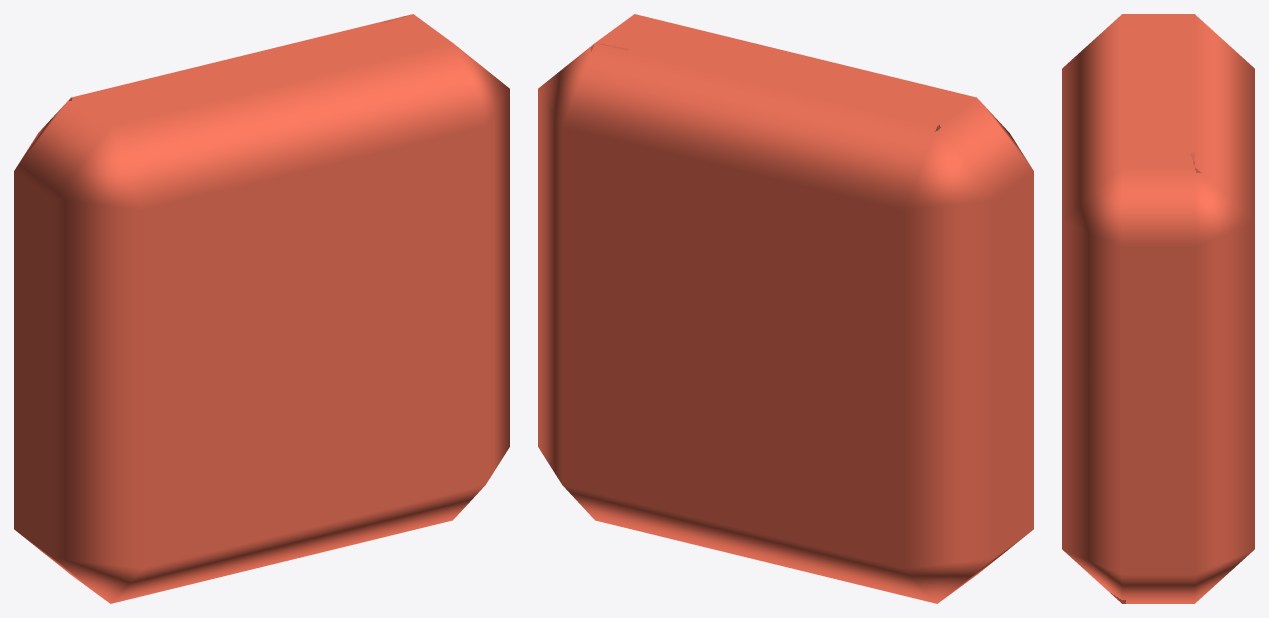
File: Maquininha_CtoLed.fbx
The picture shows the model from 3 angles, left to right: view 1: azimuth 30°, elevation 25°; view 2: azimuth 150°, elevation 25°; view 3: azimuth 270°, elevation 25°; orthographic projection. The views are drawn at different scales.
Visible parts, largest first — view 1: Maquininha_CtoLed; view 2: Maquininha_CtoLed; view 3: Maquininha_CtoLed.
Boxes of the visible parts, x1=… form: Maquininha_CtoLed: x1=14, y1=14, x2=509, y2=603; Maquininha_CtoLed: x1=538, y1=14, x2=1033, y2=603; Maquininha_CtoLed: x1=1062, y1=14, x2=1254, y2=603.
Size of the model in its own units: 0.04 by 0.04 by 0.016.
Materials: 1 (1 with a texture image).
